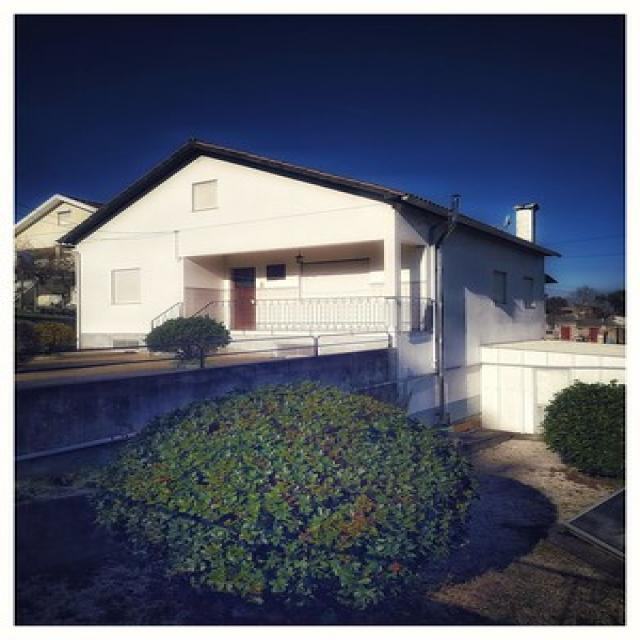Normal_building: (48, 138, 556, 442)
